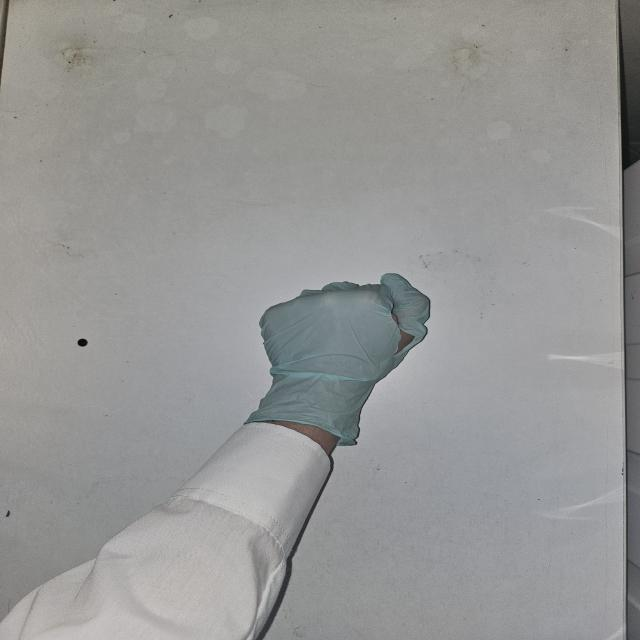gloves_damaged: (254, 268, 441, 450)
